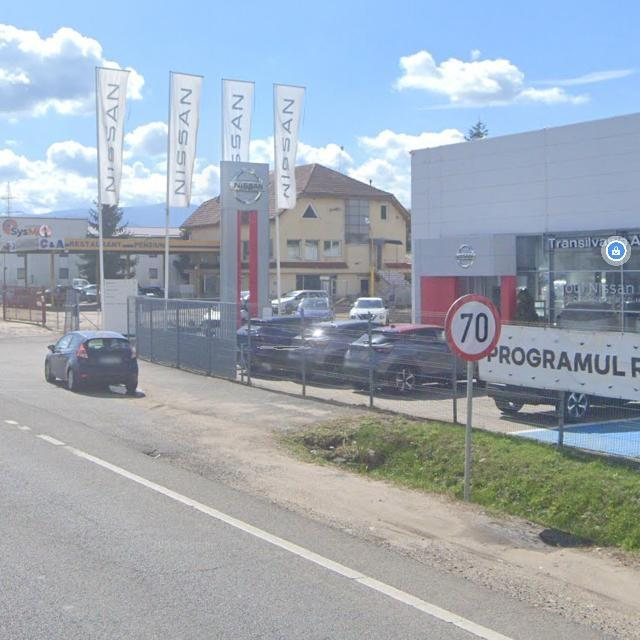forb_speed_over_70: (446, 291, 502, 363)
